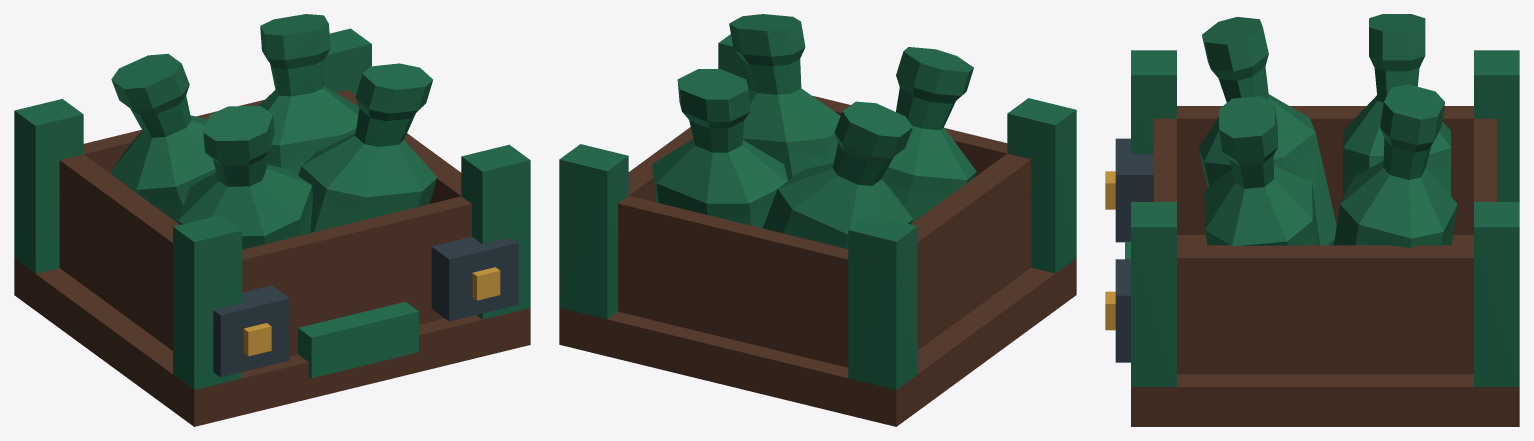
File: bottle-crate-mint.glb
The picture shows the model from 3 angles, left to right: view 1: azimuth 30°, elevation 25°; view 2: azimuth 150°, elevation 25°; view 3: azimuth 270°, elevation 25°; orthographic projection. The views are drawn at different scales.
Visible parts, largest first — view 1: bottle-crate-mint; view 2: bottle-crate-mint; view 3: bottle-crate-mint.
Boxes of the visible parts, box(x1,y1,x2,y2) form: bottle-crate-mint: box(14, 14, 530, 426); bottle-crate-mint: box(559, 14, 1076, 426); bottle-crate-mint: box(1105, 14, 1519, 426).
Size of the model in its own units: 0.68 by 0.49 by 0.6719.
